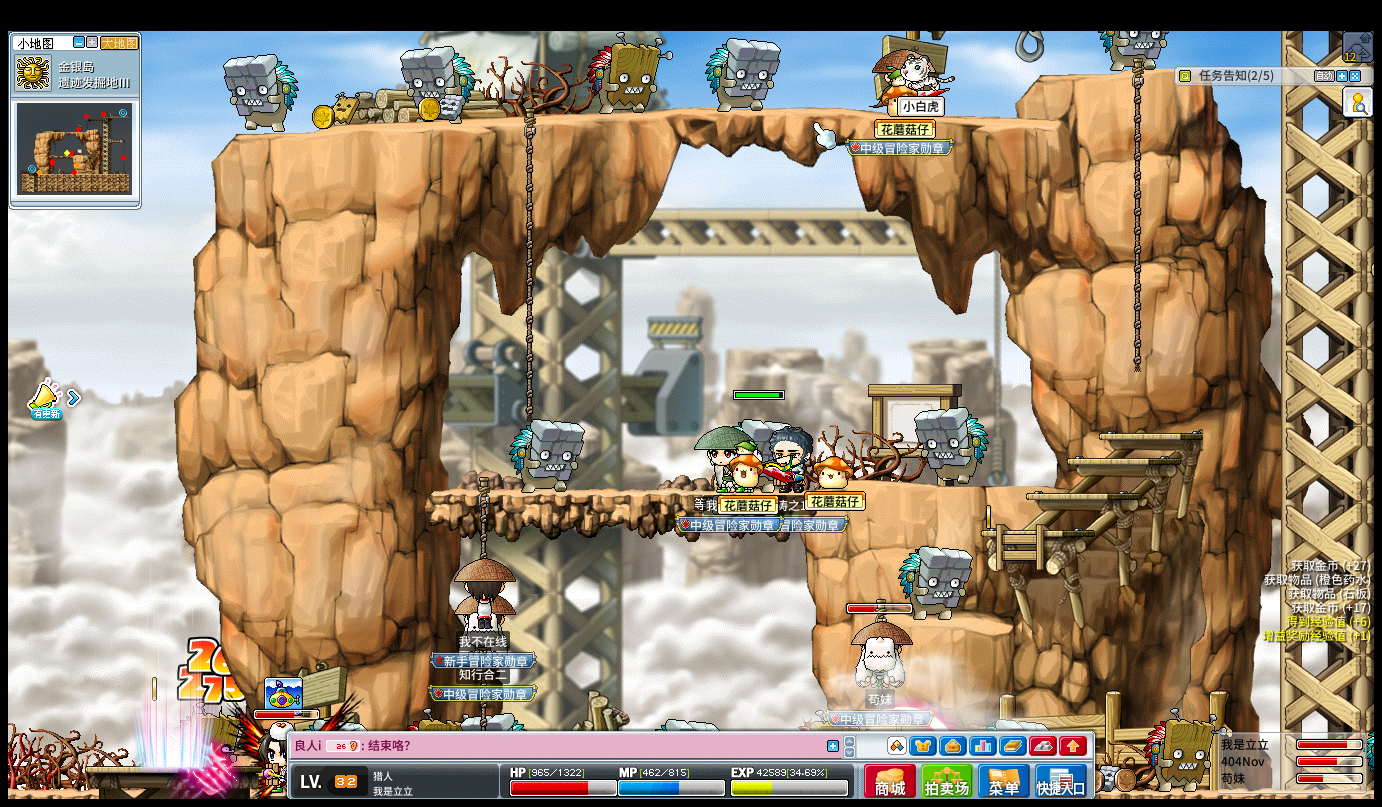floor: (229, 104, 1089, 138), (431, 487, 803, 500), (901, 613, 1013, 635), (856, 482, 1055, 494), (1039, 67, 1176, 80), (1098, 429, 1205, 442), (1060, 456, 1178, 464), (1026, 492, 1139, 500), (980, 528, 1092, 536)
monster: (586, 29, 666, 113), (1147, 712, 1230, 791), (223, 53, 299, 133), (400, 44, 474, 125), (705, 35, 781, 113), (916, 407, 988, 487), (898, 545, 972, 622), (509, 419, 583, 494)
rope: (1130, 55, 1144, 375), (522, 104, 534, 418), (474, 479, 488, 561)
